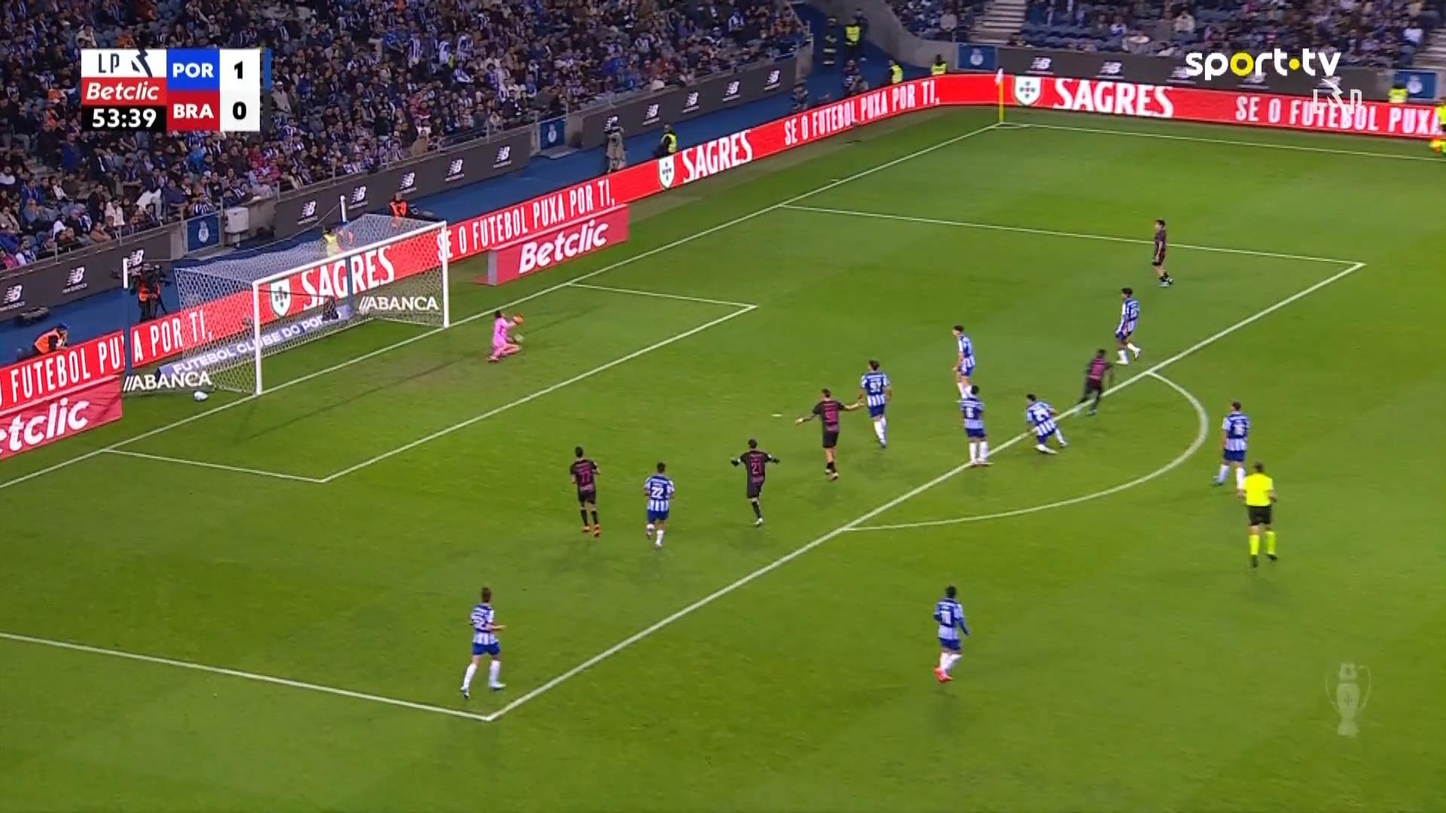goalkeeper: (487, 309, 523, 362)
player: (794, 386, 863, 481), (459, 586, 507, 699), (729, 437, 779, 527), (932, 584, 970, 683), (1210, 399, 1250, 489), (955, 376, 992, 465), (859, 358, 892, 449), (569, 445, 601, 537), (642, 461, 675, 549), (1023, 392, 1068, 454), (1075, 347, 1114, 416), (1113, 286, 1141, 364), (950, 323, 975, 399), (1150, 218, 1173, 288)
referee: (1235, 459, 1278, 568)
